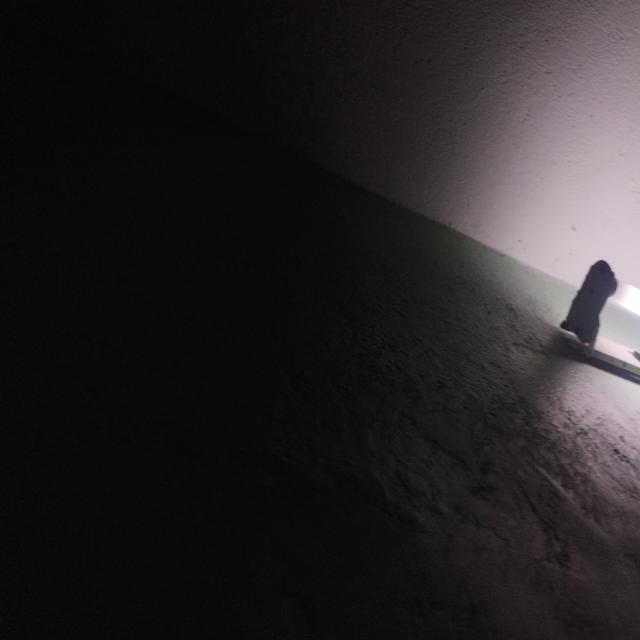tubelight_on: (552, 251, 640, 379)
